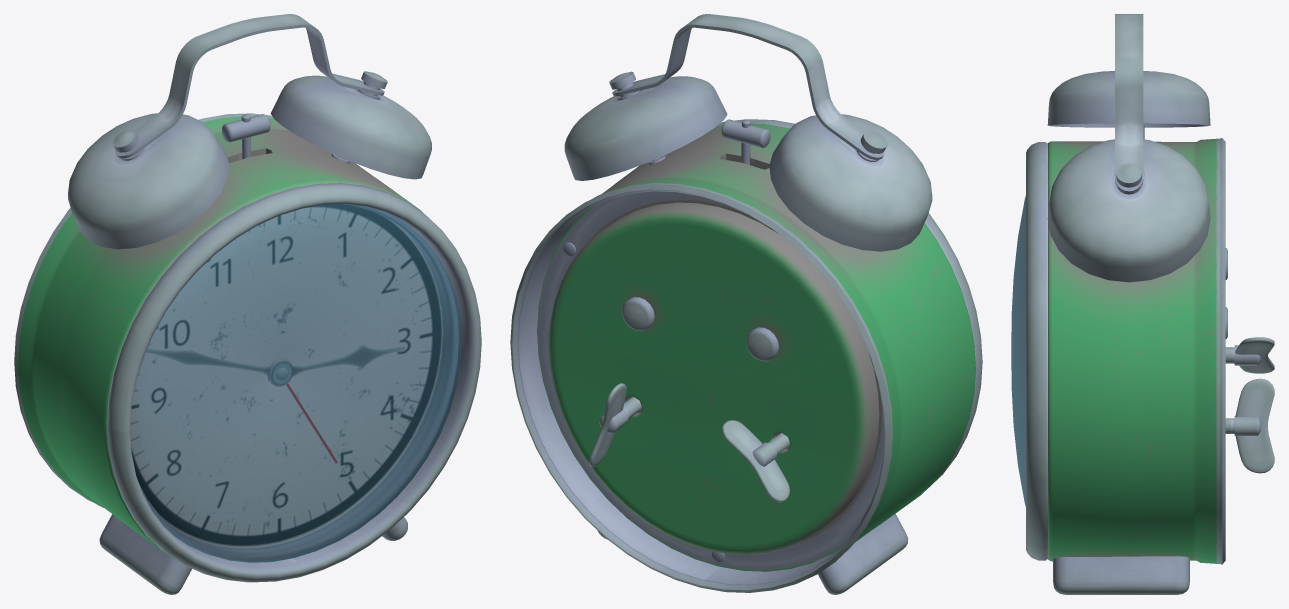
Rendered from alarm_clock.glb.
The picture shows the model from 3 angles, left to right: view 1: azimuth 30°, elevation 25°; view 2: azimuth 150°, elevation 25°; view 3: azimuth 270°, elevation 25°; orthographic projection. The views are drawn at different scales.
Visible parts, largest first — view 1: Alarm_Clock, Glass, Hour_Hand, Minute_Hand; view 2: Alarm_Clock, Key; view 3: Alarm_Clock, Key, Glass.
Part boxes in pixels (bbox=[...]): Alarm_Clock: bbox=[14, 14, 481, 594]; Glass: bbox=[130, 204, 461, 562]; Hour_Hand: bbox=[268, 344, 405, 386]; Minute_Hand: bbox=[146, 349, 285, 381]; Alarm_Clock: bbox=[510, 14, 982, 594]; Key: bbox=[589, 383, 790, 502]; Alarm_Clock: bbox=[1026, 14, 1227, 594]; Key: bbox=[1225, 337, 1274, 473]; Glass: bbox=[1011, 196, 1025, 506].
Bounding box in the file's own units: 0.1317 × 0.1742 × 0.0812.
Materials: 1 (1 with a texture image).
